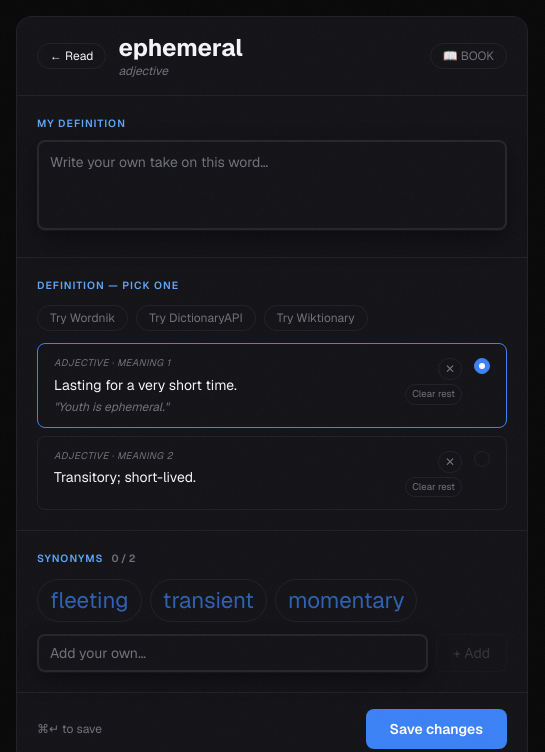
it: WordPage › adds custom synonym via input
The image size is (545, 752).
Type "brief" into the field with placeholder "Add your own…". click: (233, 654)
box: x1=37 y1=634 x2=428 y2=672
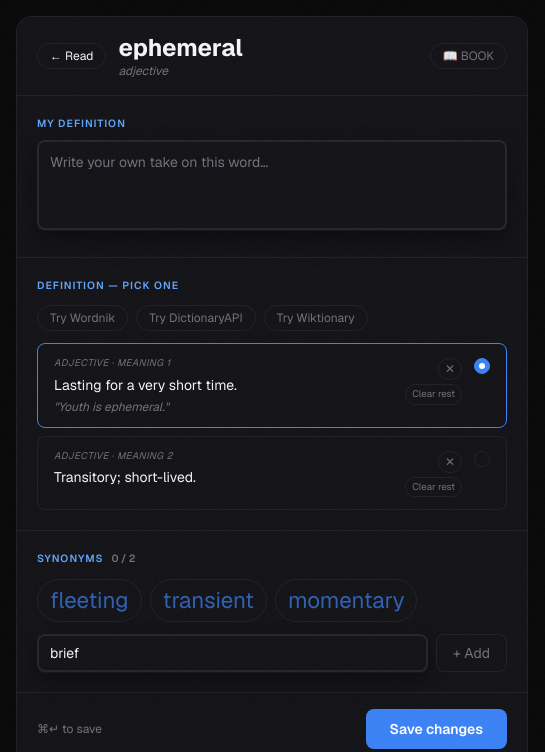
Click the button "+ Add". click: (472, 654)
box: x1=436 y1=634 x2=507 y2=672
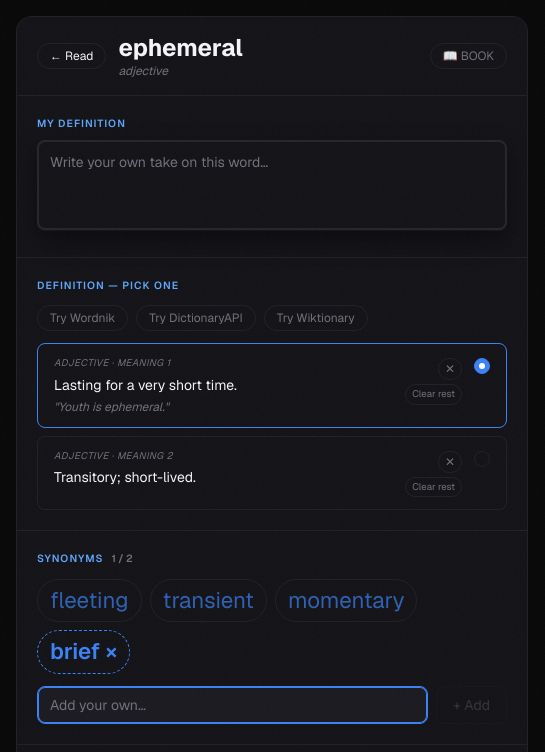
Expected: the button "brief ×" is shown, x1=37 y1=630 x2=130 y2=674
Expected: the text "1 / 2" is shown, x1=112 y1=551 x2=133 y2=567
